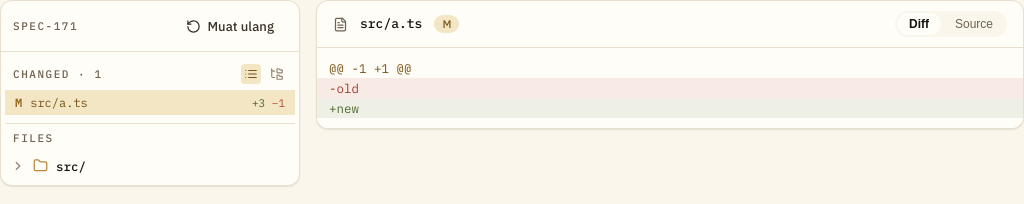
Test: ReviewScreen (SPEC-171) › tab Source menampilkan content
Expected: the text "+new" is shown, [317,98,1023,118]
Click the button "source": x=974, y=24 [943,13,1005,35]
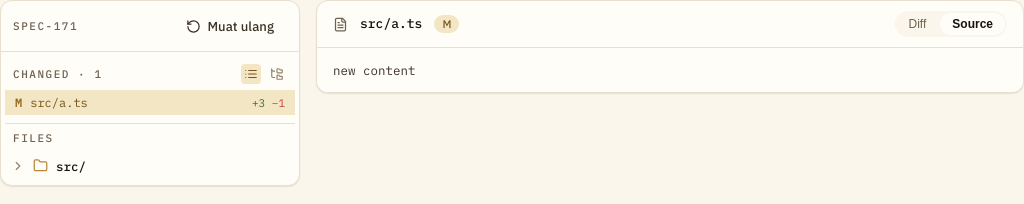
Expected: the text "new content" is shown, [333,62,416,78]
